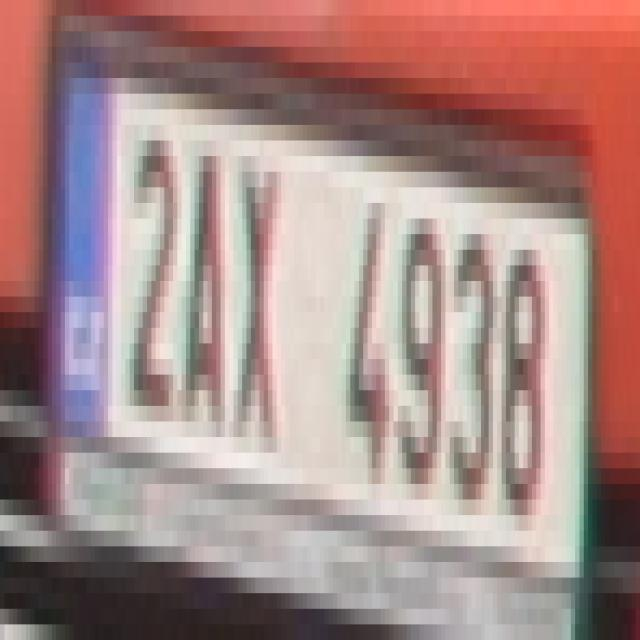2: (130, 140, 173, 452)
3: (450, 218, 493, 516)
4: (346, 203, 394, 515)
8: (502, 235, 544, 500)
9: (398, 187, 446, 468)
A: (186, 140, 233, 452)
X: (234, 156, 276, 453)
